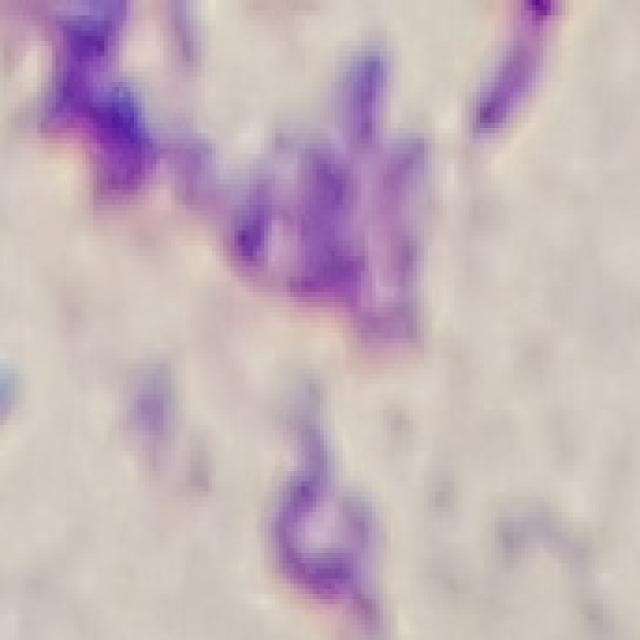non-sperm: (78, 54, 451, 352)
